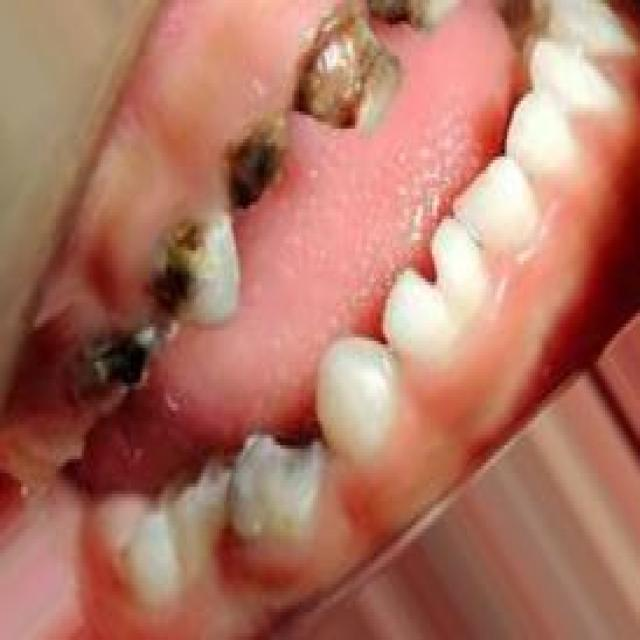caries: (289, 0, 406, 145), (145, 208, 243, 334), (65, 318, 163, 426), (228, 426, 324, 536), (219, 111, 291, 218)
